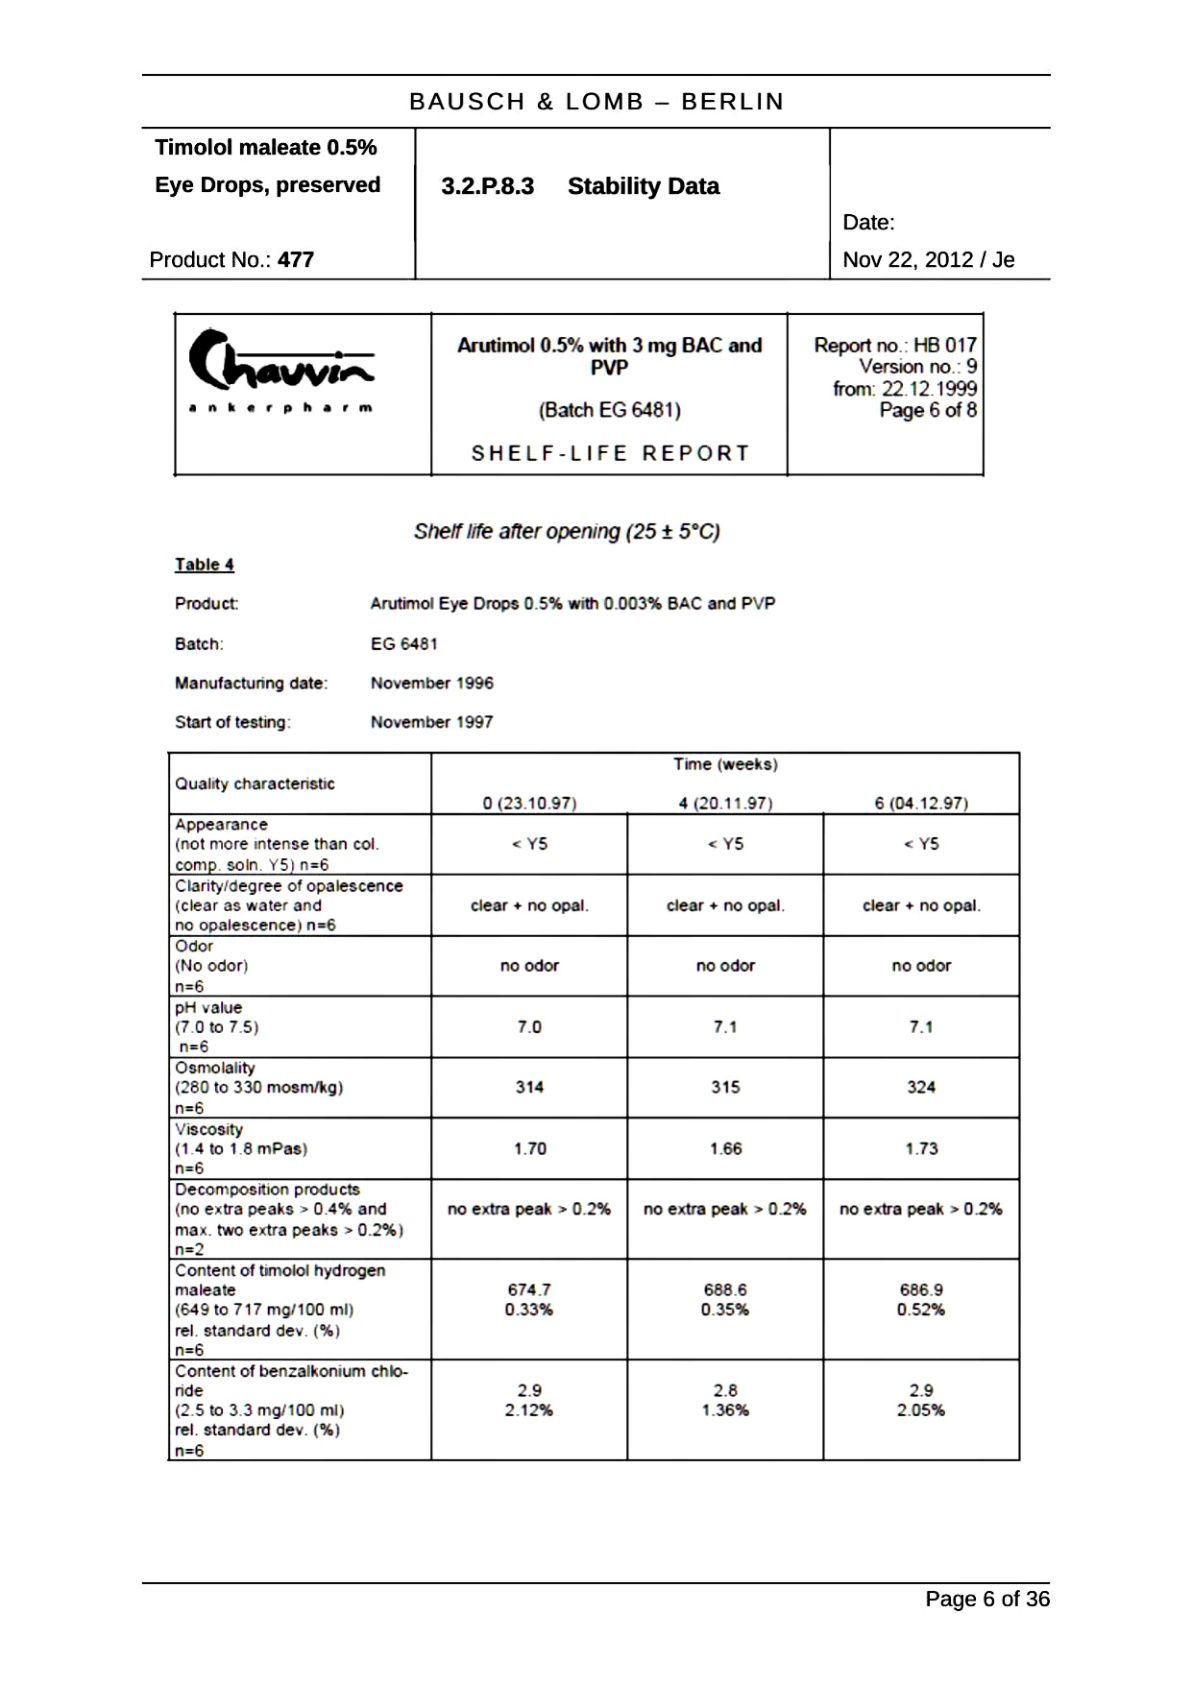full_lined: (172, 311, 984, 477)
merged_cells: (166, 750, 1020, 1462)
nolines: (173, 595, 775, 732)
partial_lined: (141, 124, 1051, 280)
